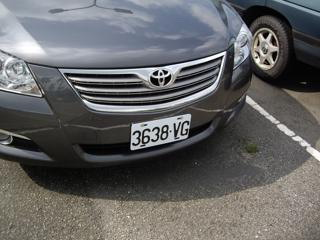plate: (128, 116, 189, 148)
